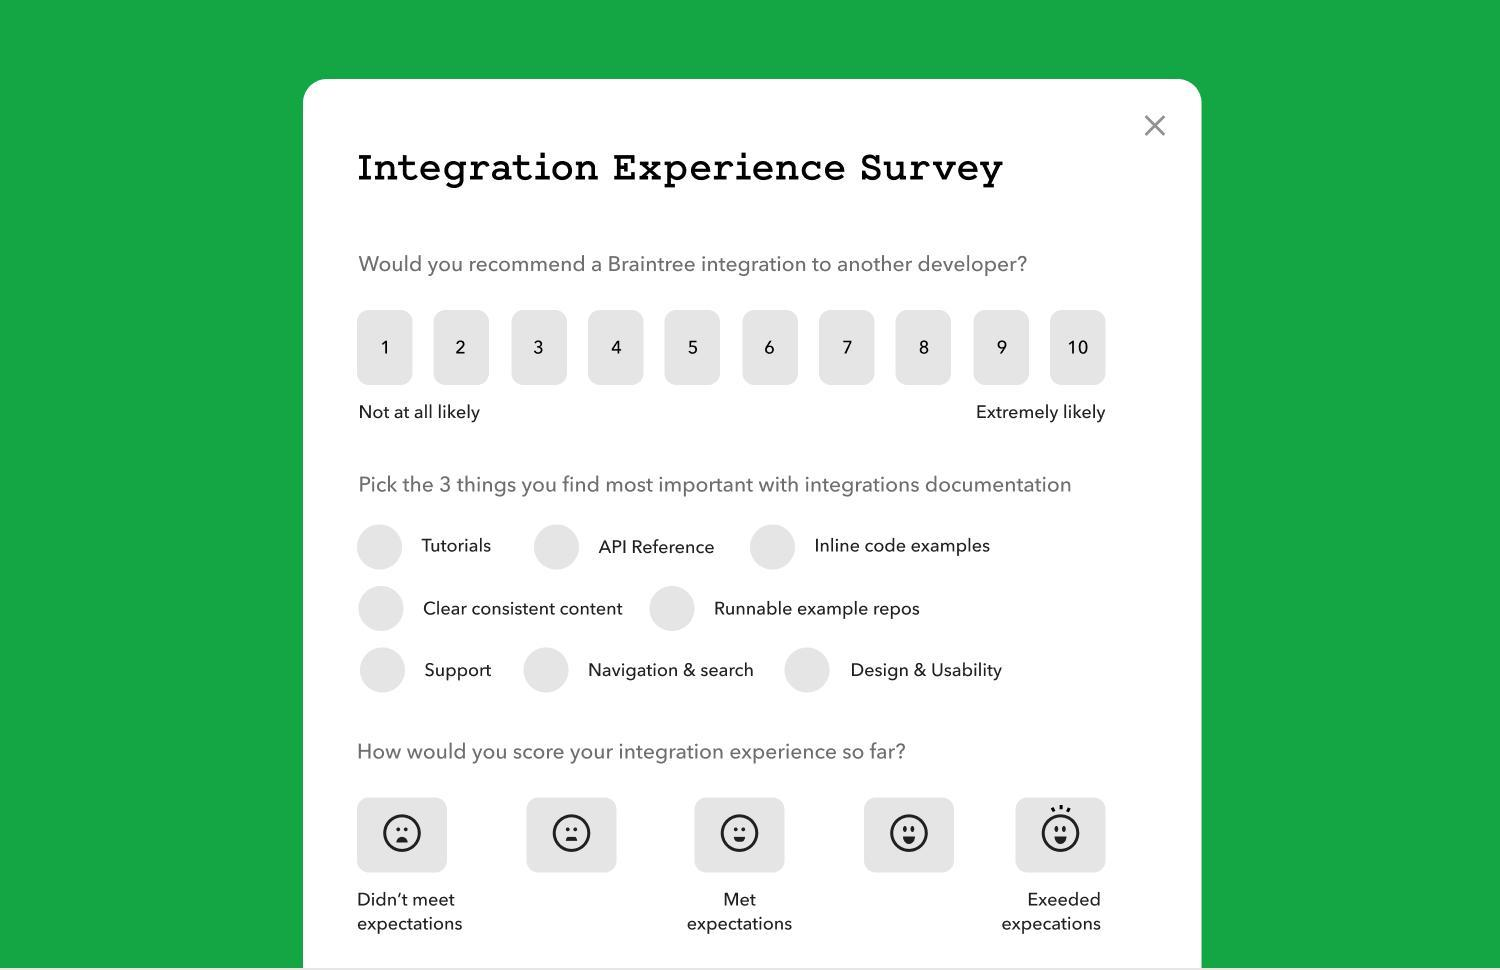icon: (887, 810, 930, 858), (1042, 805, 1082, 855), (720, 813, 764, 857), (551, 815, 595, 857), (383, 808, 422, 852)
radio: (534, 523, 581, 571), (358, 524, 405, 571), (750, 525, 795, 574), (523, 648, 570, 694), (651, 586, 694, 635), (363, 648, 408, 696), (787, 648, 832, 694), (360, 587, 405, 631)
